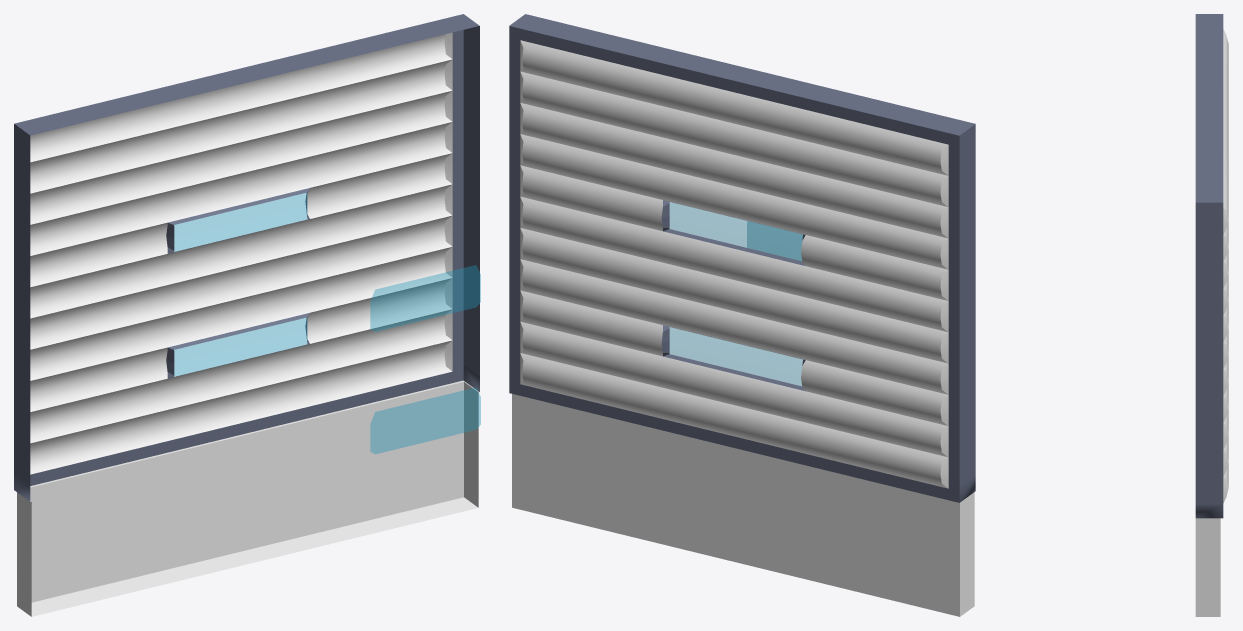
Rendered from ExteriorWallWindow2.FBX.
3 views of the same model, side by side, from view 1: azimuth 30°, elevation 25°; view 2: azimuth 150°, elevation 25°; view 3: azimuth 270°, elevation 25° (orthographic). The views are drawn at different scales.
Visible parts, largest first — view 1: Box001, Window, Window001; view 2: Box001, Window001, Window; view 3: Box001.
Boxes of the visible parts, box(x1,y1,x2,y2) form: Box001: box(14, 14, 479, 616); Window: box(370, 265, 480, 453); Window001: box(174, 193, 307, 376); Box001: box(509, 14, 975, 616); Window001: box(669, 202, 802, 385); Window: box(747, 221, 802, 260); Box001: box(1195, 14, 1228, 616).
Size of the model in its own units: 40.73 by 41.71 by 20.46.
2 materials, 1 textured.
